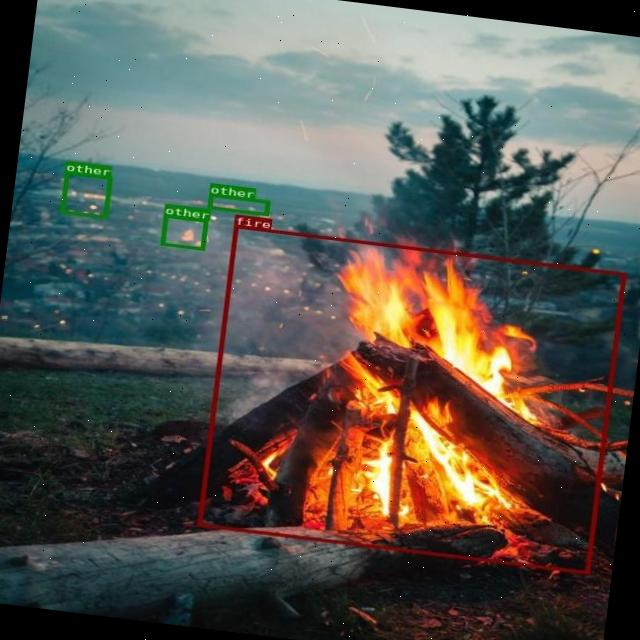fire: (196, 224, 625, 574)
